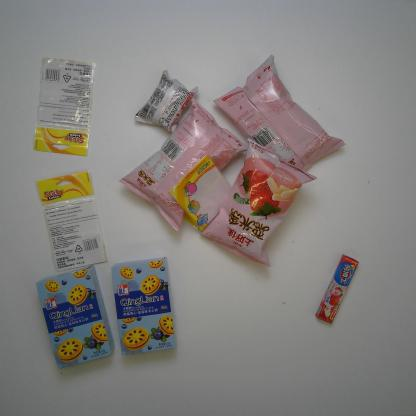Candy: (314, 254, 360, 326)
Dessert: (34, 262, 118, 372), (109, 255, 178, 358), (132, 68, 200, 136)
Puffed Food: (117, 95, 250, 234), (210, 52, 348, 174), (197, 134, 319, 270)
Stationery: (33, 169, 110, 273), (31, 55, 98, 158), (167, 152, 234, 234)
